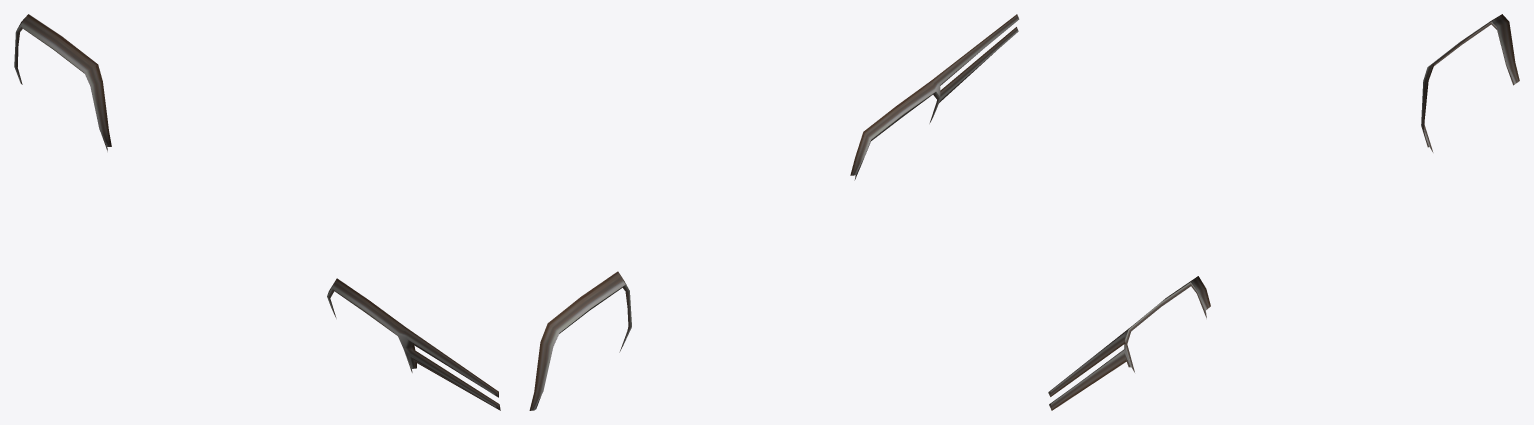
File: wg_l_lr_rem2.glb
The picture shows the model from 3 angles, left to right: view 1: azimuth 30°, elevation 25°; view 2: azimuth 150°, elevation 25°; view 3: azimuth 330°, elevation 25°; orthographic projection. The views are drawn at different scales.
Visible parts, largest first — view 1: wg_l_lr_rem2; view 2: wg_l_lr_rem2; view 3: wg_l_lr_rem2.
Boxes of the visible parts, left/top/right/bottom form: wg_l_lr_rem2: left=14, top=14, right=500, bottom=410; wg_l_lr_rem2: left=529, top=14, right=1019, bottom=410; wg_l_lr_rem2: left=1048, top=14, right=1519, bottom=410.
Size of the model in its own units: 0.1166 by 0.5248 by 5.22.
Materials: 1 (1 with a texture image).
